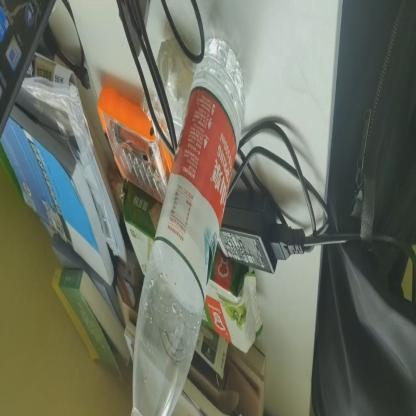Glass Bottle: (128, 34, 246, 416)
